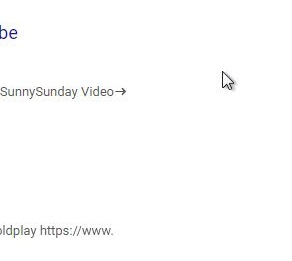cursor: (220, 69, 235, 91)
